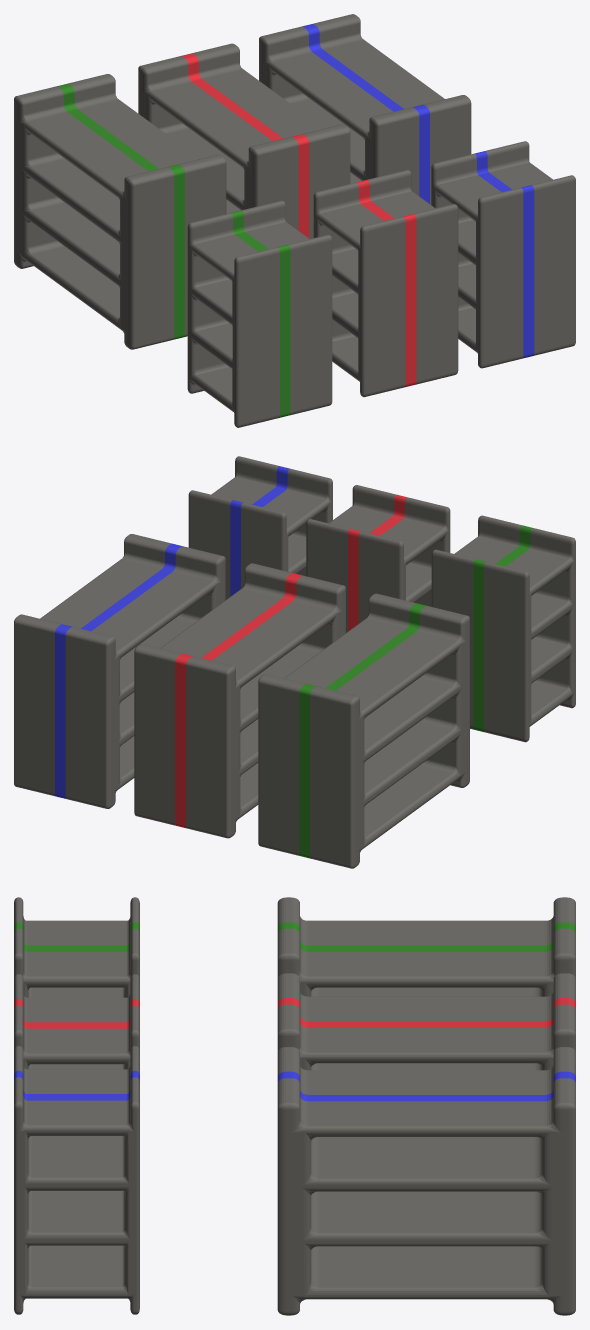
The model's file is SHELVESSS.fbx.
3 views of the same model, one above another, from view 1: azimuth 30°, elevation 25°; view 2: azimuth 150°, elevation 25°; view 3: azimuth 270°, elevation 25° (orthographic). The views are drawn at different scales.
Parts seen in each view (by area): view 1: Cube.017, Cube.020, Cube.021, Cube.022, Cube.018, Cube.019; view 2: Cube.017, Cube.018, Cube.019, Cube.020, Cube.021, Cube.022; view 3: Cube.019, Cube.022, Cube.017, Cube.018, Cube.020, Cube.021.
Part boxes in pixels (box(x1,y1,x2,y2)): Cube.017: box(14, 74, 226, 349); Cube.020: box(187, 200, 332, 427); Cube.021: box(313, 170, 458, 397); Cube.022: box(431, 141, 575, 368); Cube.018: box(138, 43, 350, 238); Cube.019: box(259, 14, 471, 204); Cube.017: box(258, 593, 469, 868); Cube.018: box(134, 563, 345, 838); Cube.019: box(14, 534, 225, 808); Cube.020: box(431, 515, 575, 742); Cube.021: box(306, 485, 450, 632); Cube.022: box(188, 456, 332, 599); Cube.019: box(277, 1047, 575, 1315); Cube.022: box(14, 1046, 139, 1314); Cube.017: box(277, 897, 575, 996); Cube.018: box(277, 973, 575, 1070); Cube.020: box(14, 897, 139, 997); Cube.021: box(14, 974, 139, 1069).
Bounding box in the file's own units: 483 × 230 × 551.
